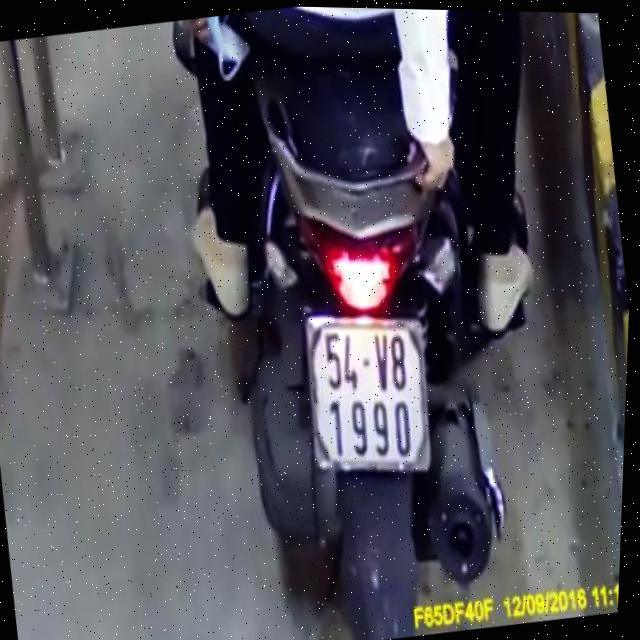motorcycle: (164, 17, 571, 640)
plate: (293, 298, 442, 493)
